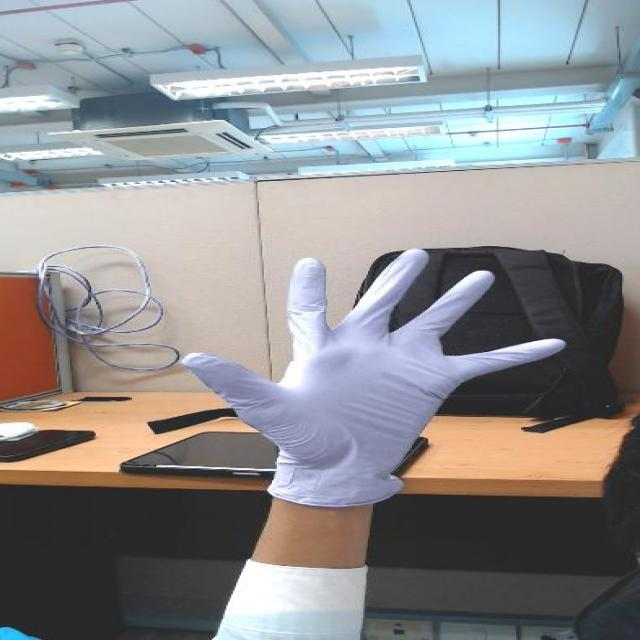Glove: (168, 236, 589, 507)
